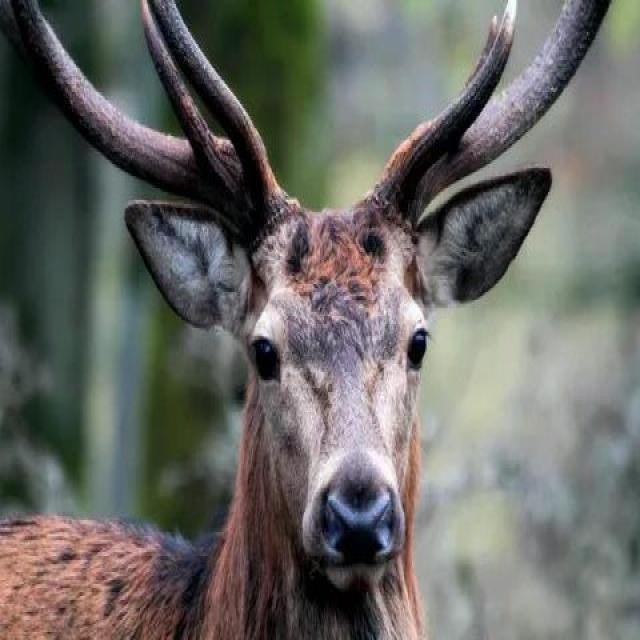deer: (100, 6, 543, 582)
